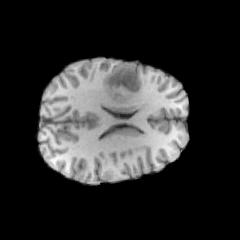glioma: (103, 63, 144, 102)
